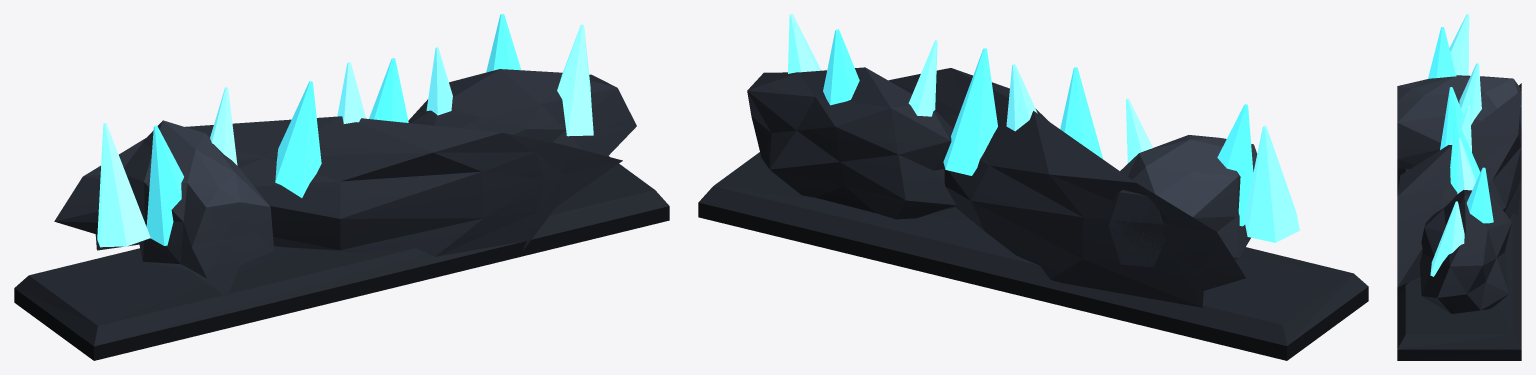
Rendered from crystal-ridge.glb.
The picture shows the model from 3 angles, left to right: view 1: azimuth 30°, elevation 25°; view 2: azimuth 150°, elevation 25°; view 3: azimuth 270°, elevation 25°; orthographic projection. The views are drawn at different scales.
Size of the model in its own units: 5 by 1.6 by 1.2.
